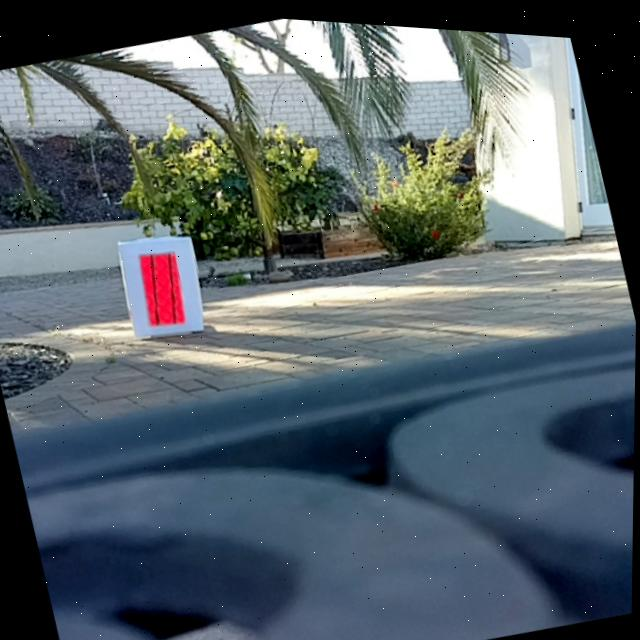led: (132, 242, 194, 332)
